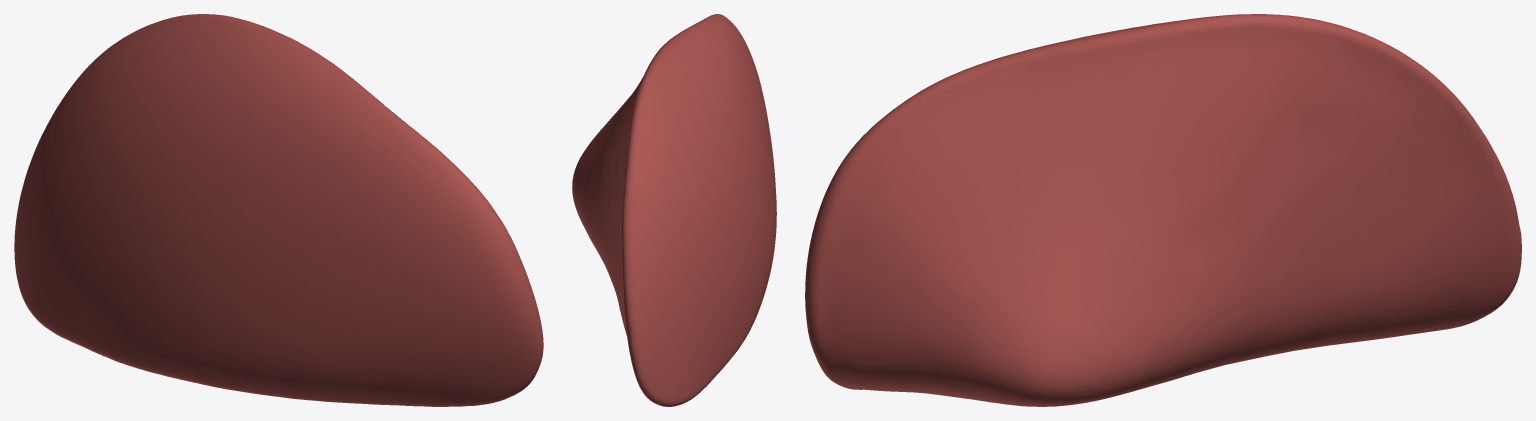
File: FMA72830.glb
The picture shows the model from 3 angles, left to right: view 1: azimuth 30°, elevation 25°; view 2: azimuth 150°, elevation 25°; view 3: azimuth 270°, elevation 25°; orthographic projection. The views are drawn at different scales.
Parts seen in each view (by area): view 1: FMA72830; view 2: FMA72830; view 3: FMA72830.
Part boxes in pixels (x1=…): FMA72830: x1=14, y1=14, x2=543, y2=406; FMA72830: x1=572, y1=14, x2=776, y2=406; FMA72830: x1=805, y1=14, x2=1521, y2=406.
Bounding box in the file's own units: 0.0158 × 0.0163 × 0.0276.
